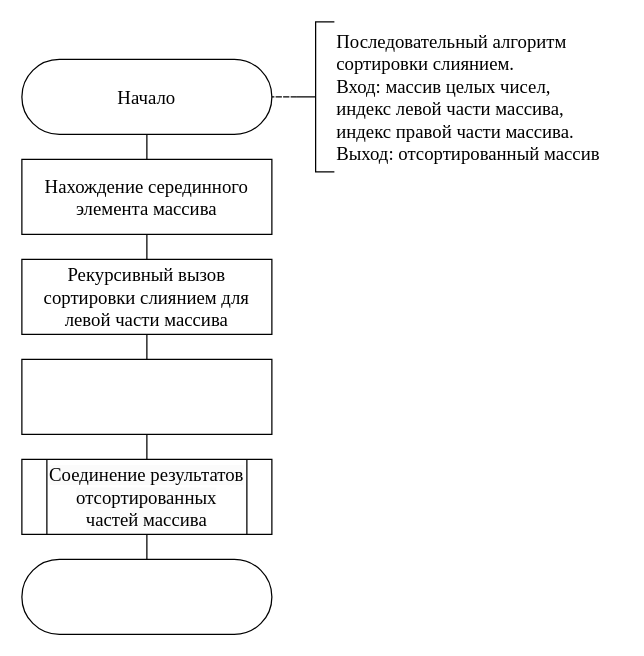
Some shapes in this 644 by 656 pixel diagram are drawn without their labels. The box of each missing label's shape, as (x1, y1, x2, y2) in pixels:
Конец: (21, 558, 272, 634)
Рекурсивный вызов сортировки слиянием для правой части массива: (21, 358, 272, 434)
